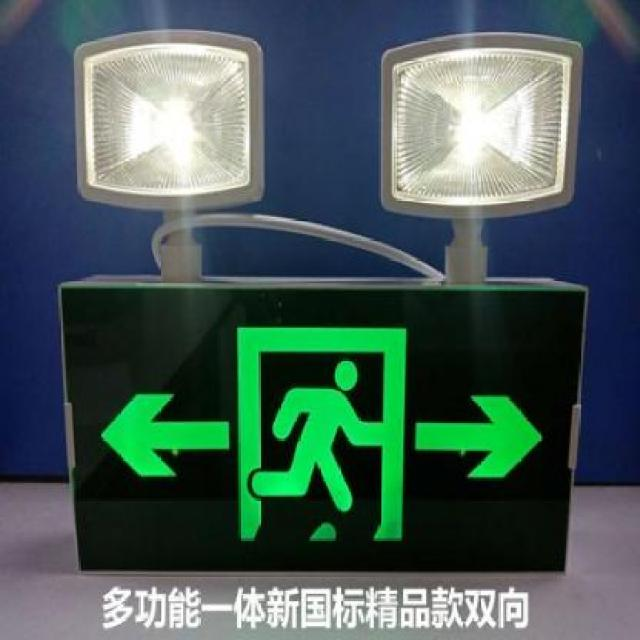exit_sign: (28, 250, 602, 582)
